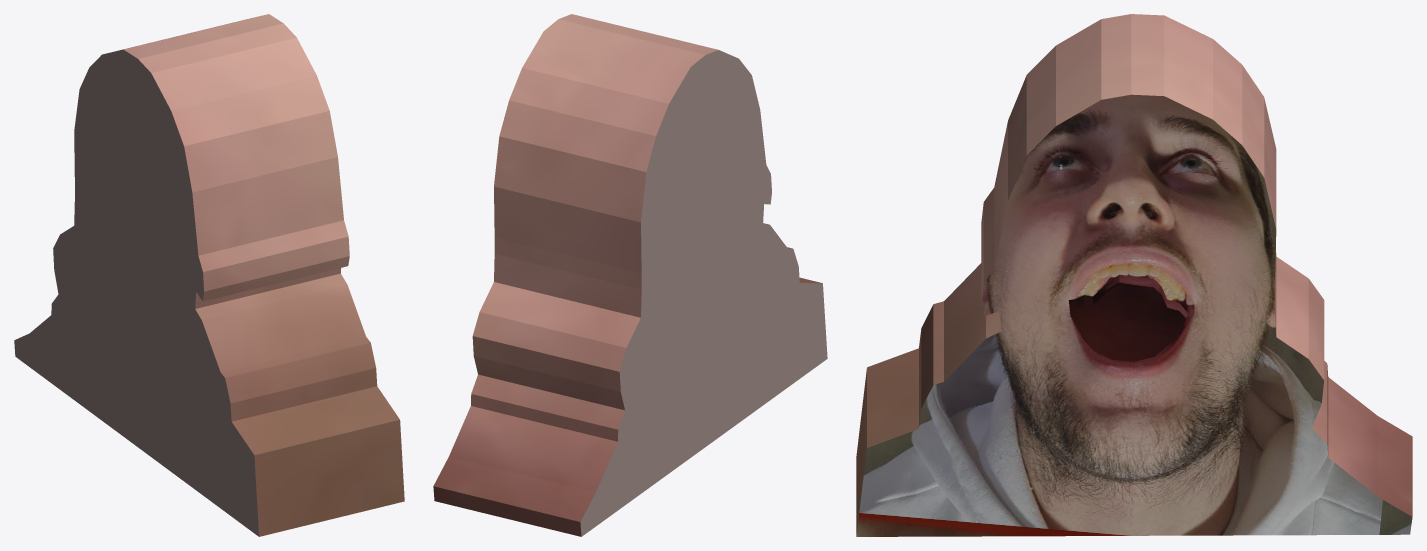
Rendered from MouthHD.fbx.
3 renders of one model, left to right at view 1: azimuth 30°, elevation 25°; view 2: azimuth 150°, elevation 25°; view 3: azimuth 270°, elevation 25°, orthographic. The views are drawn at different scales.
Visible parts, largest first — view 1: gleb versionm; view 2: gleb versionm; view 3: gleb versionm.
Boxes of the visible parts, left/top/right/bottom form: gleb versionm: left=14, top=14, right=404, bottom=536; gleb versionm: left=433, top=14, right=827, bottom=536; gleb versionm: left=856, top=14, right=1412, bottom=536.
Size of the model in its own units: 167 by 427 by 486.
